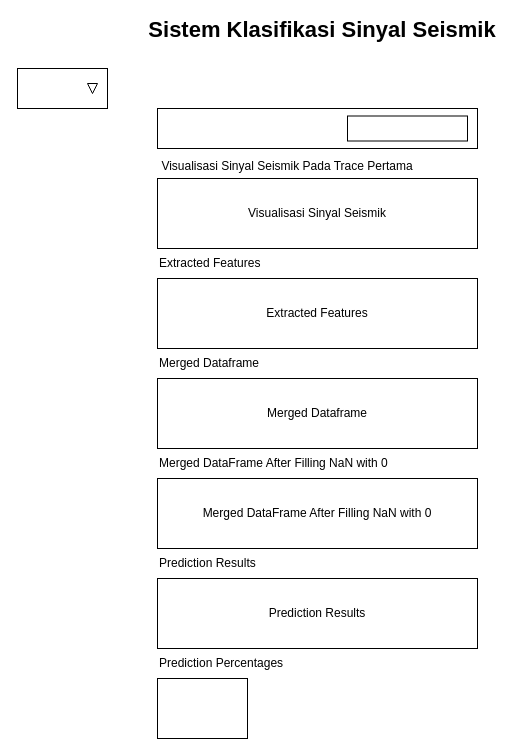
Image size: 525x756. Some labels were removed from this diagram. Each missing label, with the centre of its shape:
Browse Files: point 407,128
Model: point 62,88
Prediction Percentage: point 202,708
